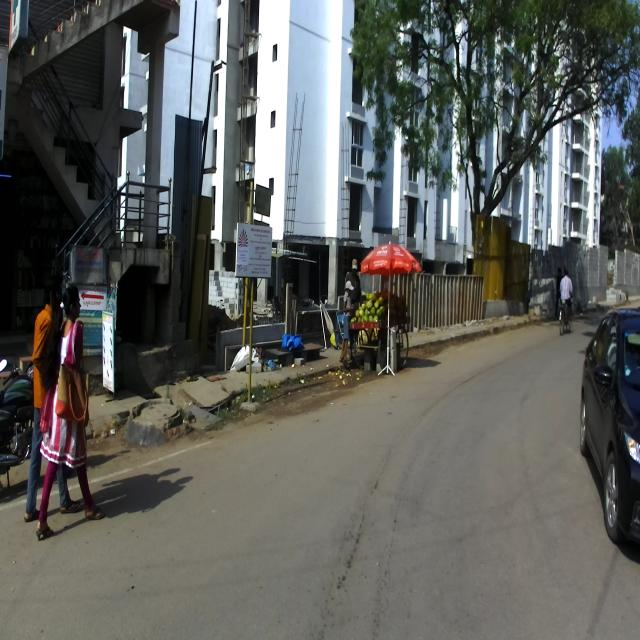car ahead at: (578, 304, 640, 548)
person ahead at: (40, 285, 98, 542)
